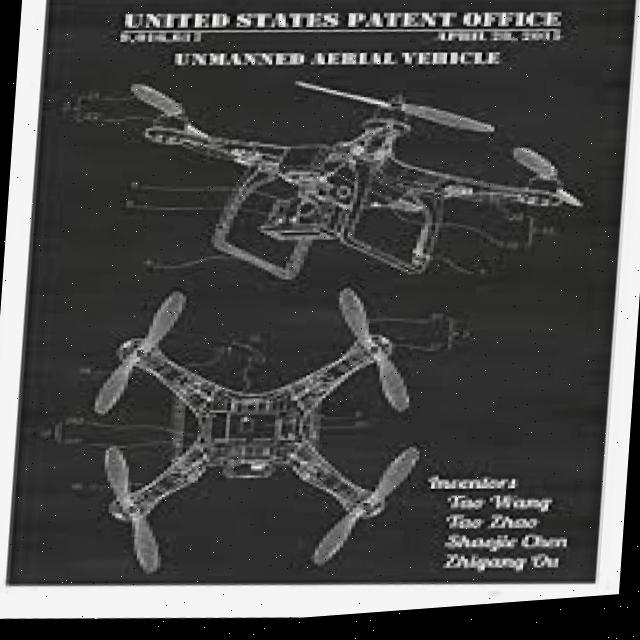drone: (82, 33, 600, 343), (77, 266, 435, 605)
